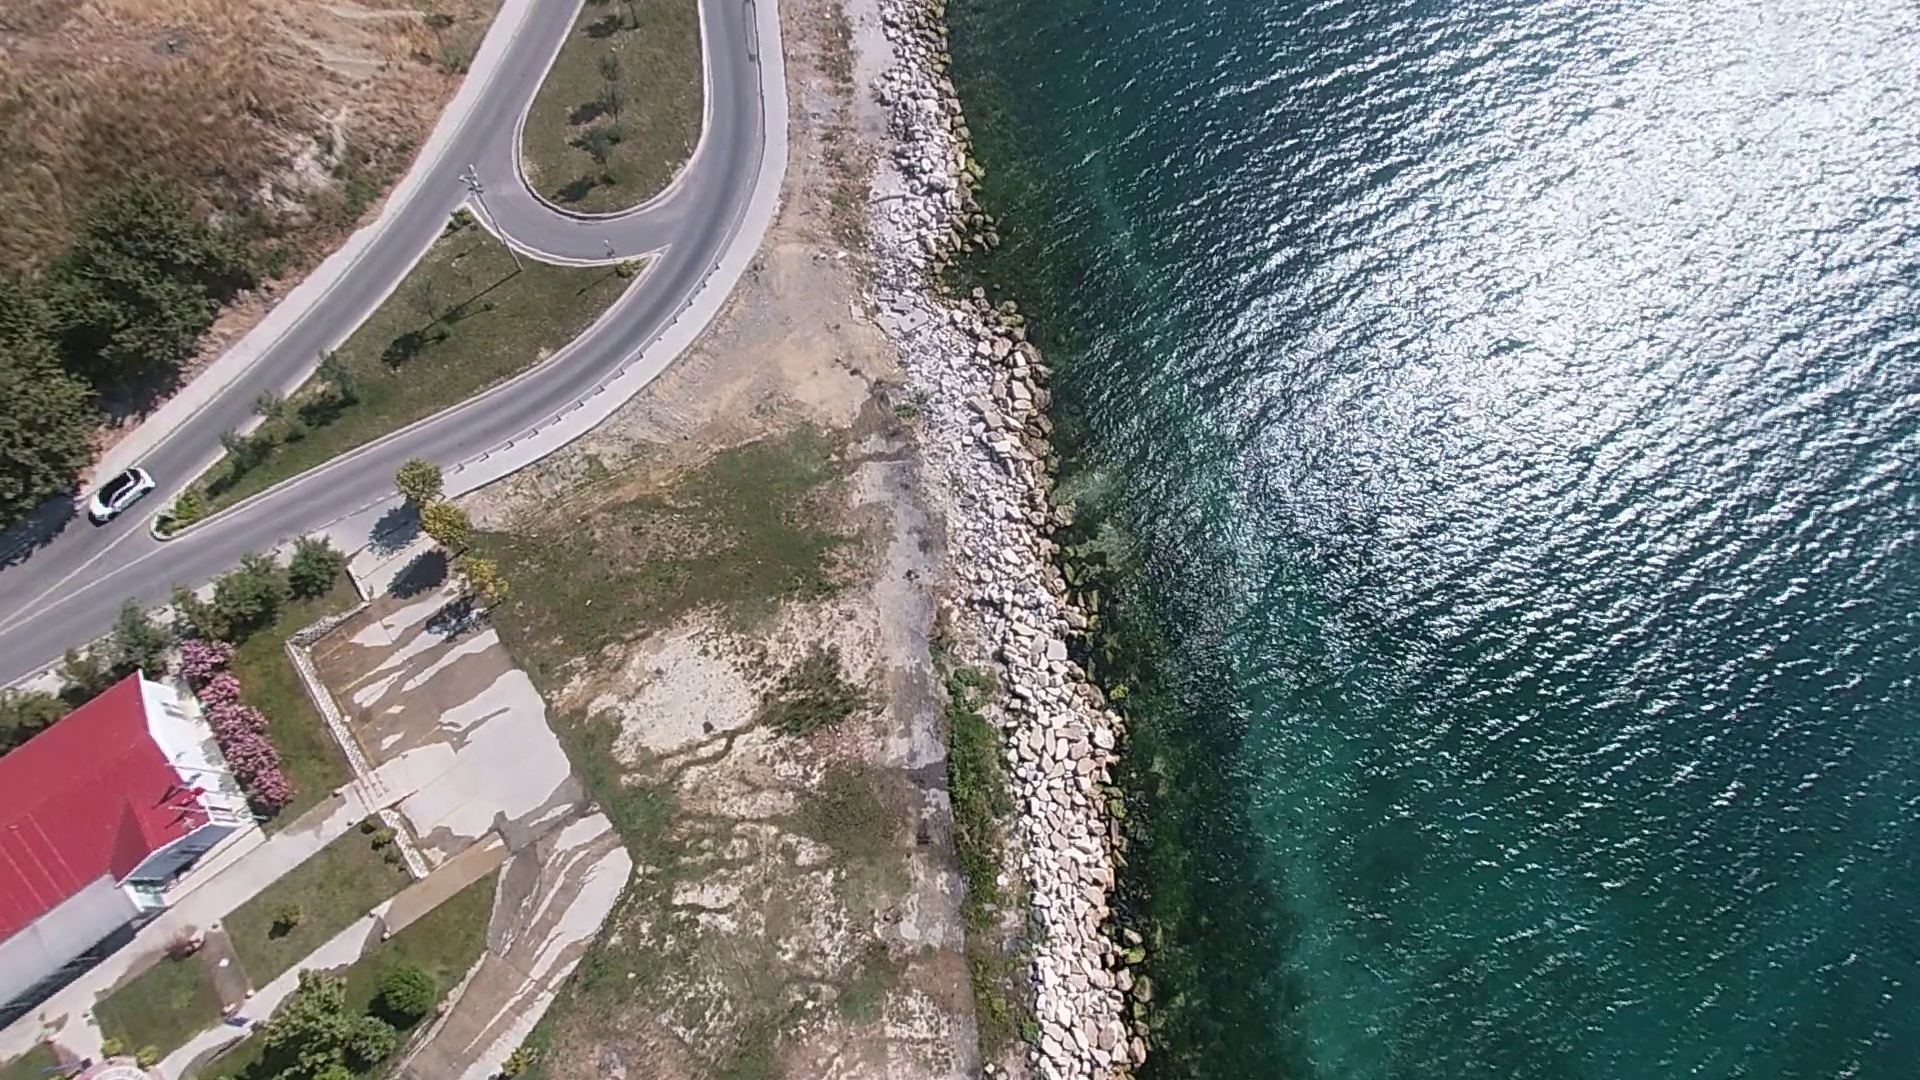araba: (84, 460, 153, 527)
